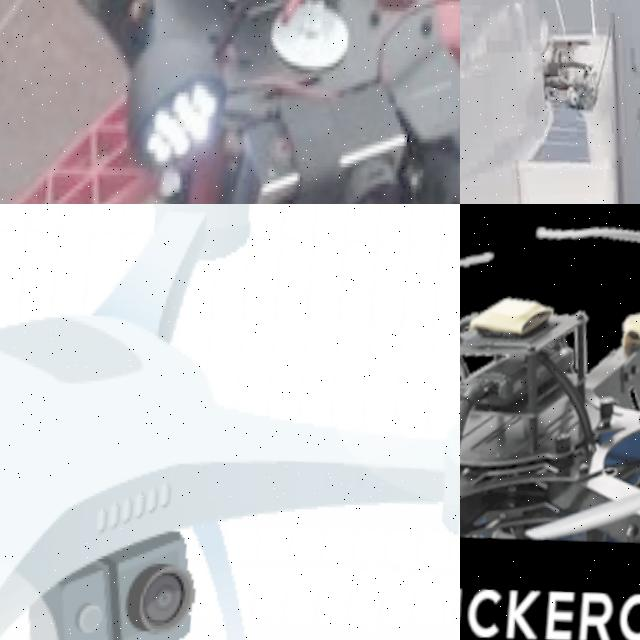drone: (0, 204, 460, 640), (0, 0, 460, 204), (460, 204, 640, 640)
